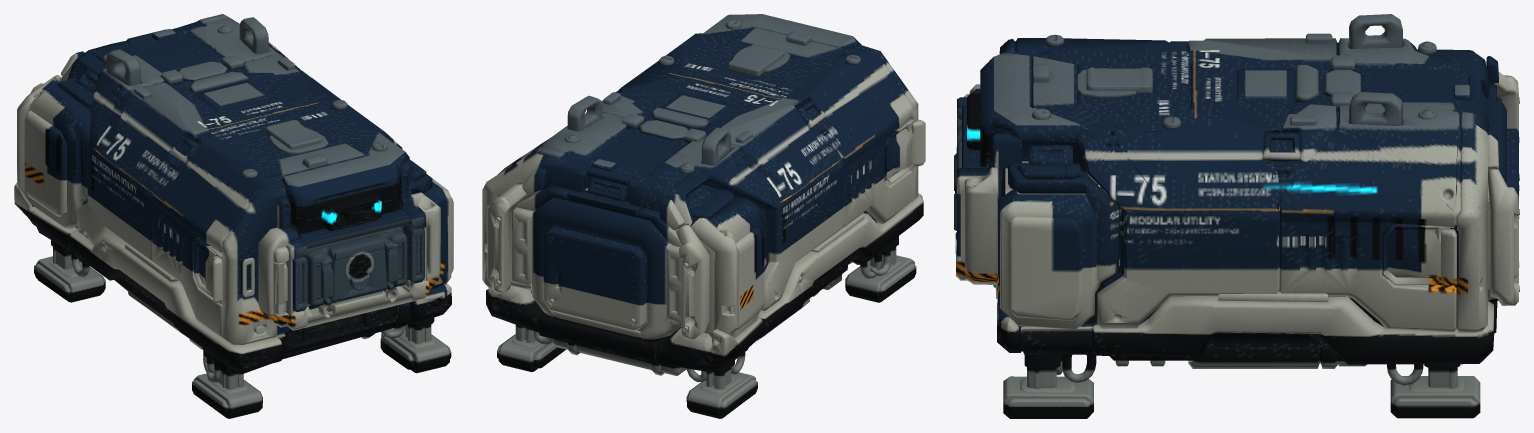
The picture shows the model from 3 angles, left to right: view 1: azimuth 30°, elevation 25°; view 2: azimuth 150°, elevation 25°; view 3: azimuth 270°, elevation 25°; orthographic projection. The views are drawn at different scales.
Visible parts, largest first — view 1: I75_V02_Surface_R01; view 2: I75_V02_Surface_R01; view 3: I75_V02_Surface_R01.
Boxes of the visible parts, x1,y1,x2,y2 form: I75_V02_Surface_R01: (14, 14, 453, 418); I75_V02_Surface_R01: (482, 14, 925, 418); I75_V02_Surface_R01: (954, 14, 1519, 418).
Size of the model in its own units: 48.03 by 43.71 by 75.
1 material, 1 textured.
